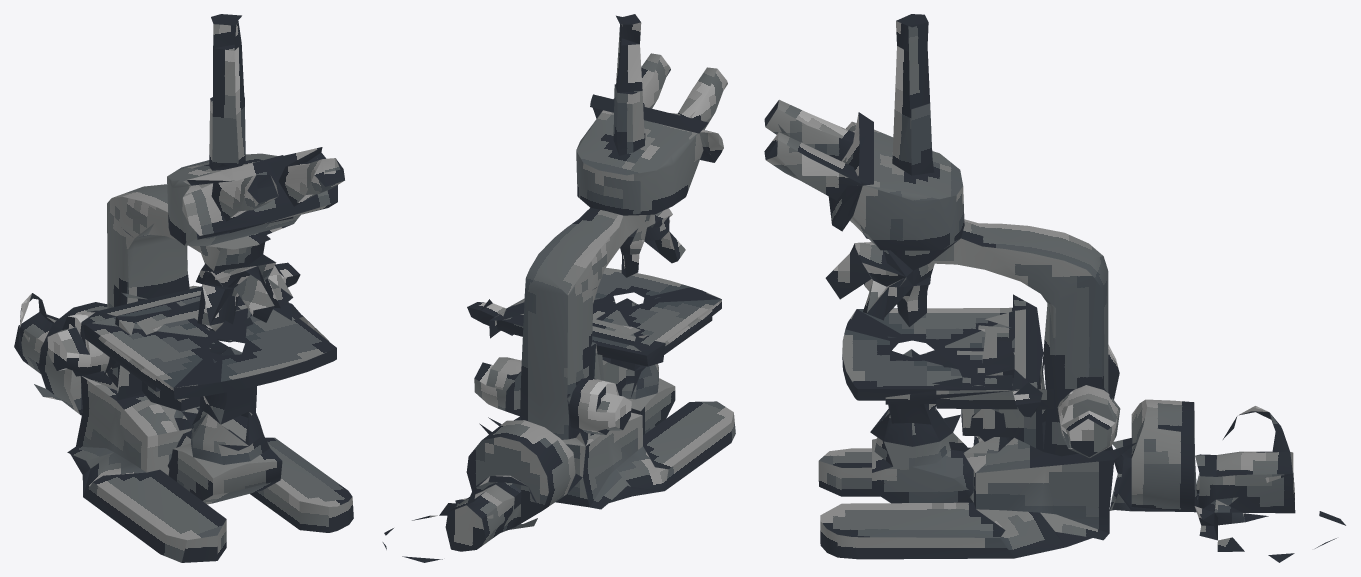
Rendered from industrial_microscope.glb.
3 renders of one model, left to right at view 1: azimuth 30°, elevation 25°; view 2: azimuth 150°, elevation 25°; view 3: azimuth 270°, elevation 25°, orthographic. The views are drawn at different scales.
Parts seen in each view (by area): view 1: mesh; view 2: mesh; view 3: mesh.
Part boxes in pixels (x1=…): mesh: x1=14, y1=14, x2=353, y2=562; mesh: x1=382, y1=14, x2=735, y2=562; mesh: x1=764, y1=14, x2=1345, y2=562.
Bounding box in the file's own units: 0.2138 × 0.4617 × 0.4925.
Materials: 1 (1 with a texture image).
